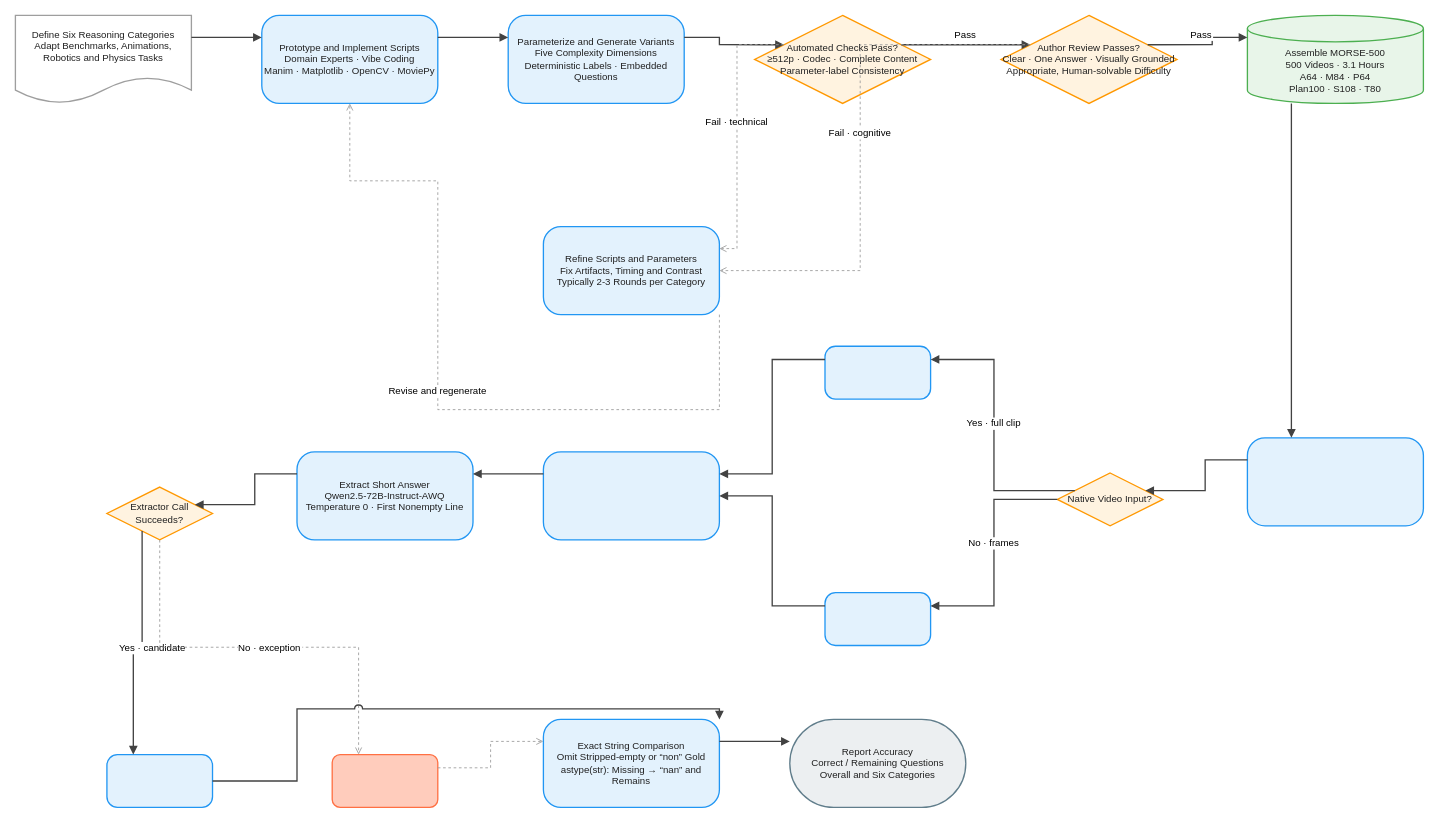
Image size: 1440x824. Some labels were removed from this diagram. Each missing label, with the centre of its shape:
"Prepare Evaluation Video Preserve Aspect Ratio Maximum Side 512 Pixels" goes at (x=1335, y=481).
"Record Literal “Error” Keep Row for Comparison" goes at (x=384, y=781).
"Run Model Inference “Answer the question in this video.”" goes at (x=631, y=495).
"Sample Image Frames 2 FPS · At Most 32" goes at (x=877, y=619).
"Supply Entire Clip" goes at (x=877, y=372).
"Use Extracted Candidate Strip Outer Whitespace" goes at (x=159, y=781).
